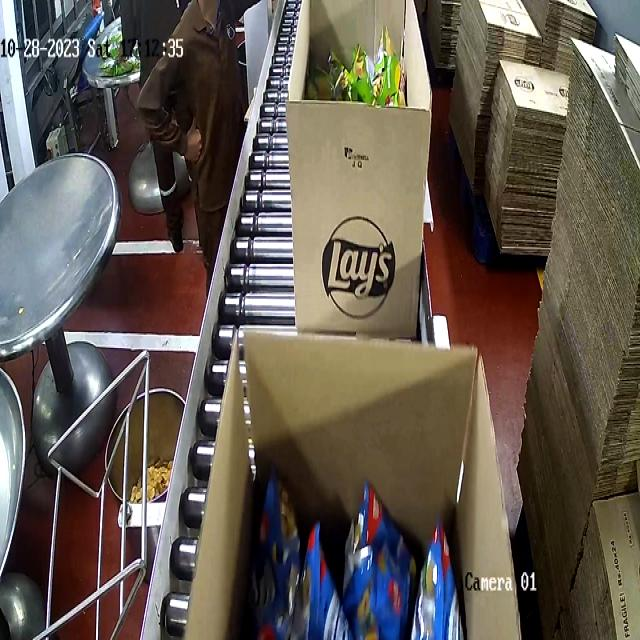PAPRIKA: (240, 452, 479, 640)
